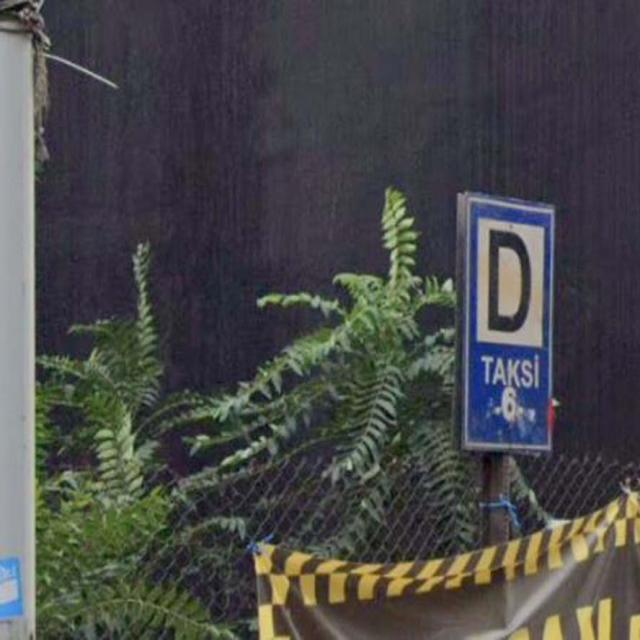durak: (469, 197, 547, 352)
